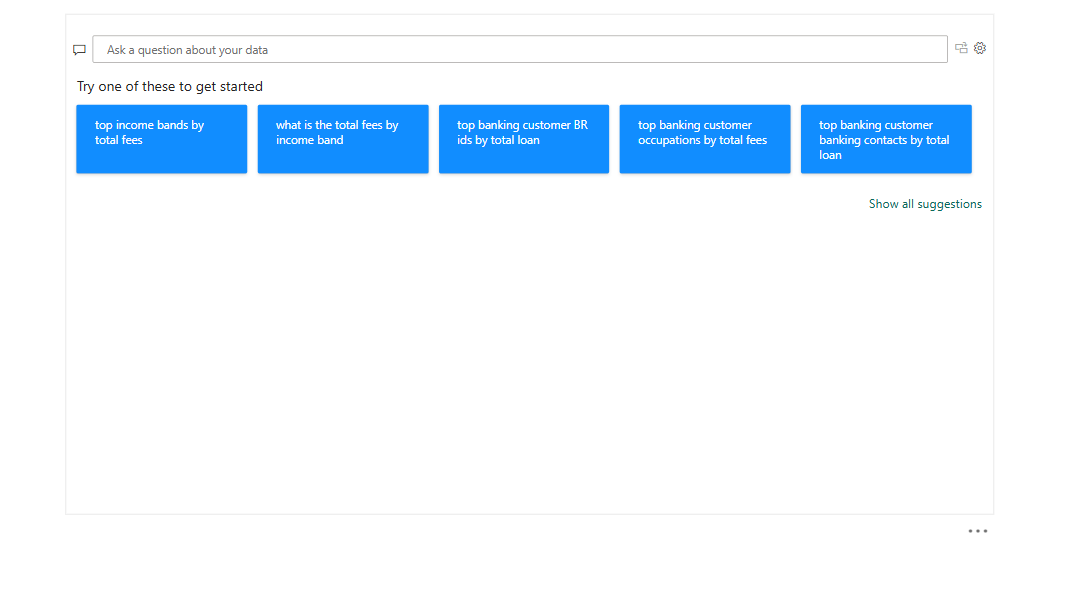

This screenshot's page, from the dashboard's own definition file:
{"tool":"powerbi","page":{"name":"Ask a Question","canvas":[1280,720],"ordinal":4},"visuals":[{"type":"qnaVisual","box":[98.8,27.4,1060.7,572.2],"z":0}]}

Visuals, with their boxes in screenshot pixels (x1, y1, x2, y2), scaled from the page's 1280x720 canvas onto the 1080x605 screenshot:
qnaVisual: bbox=[83, 23, 978, 504]
